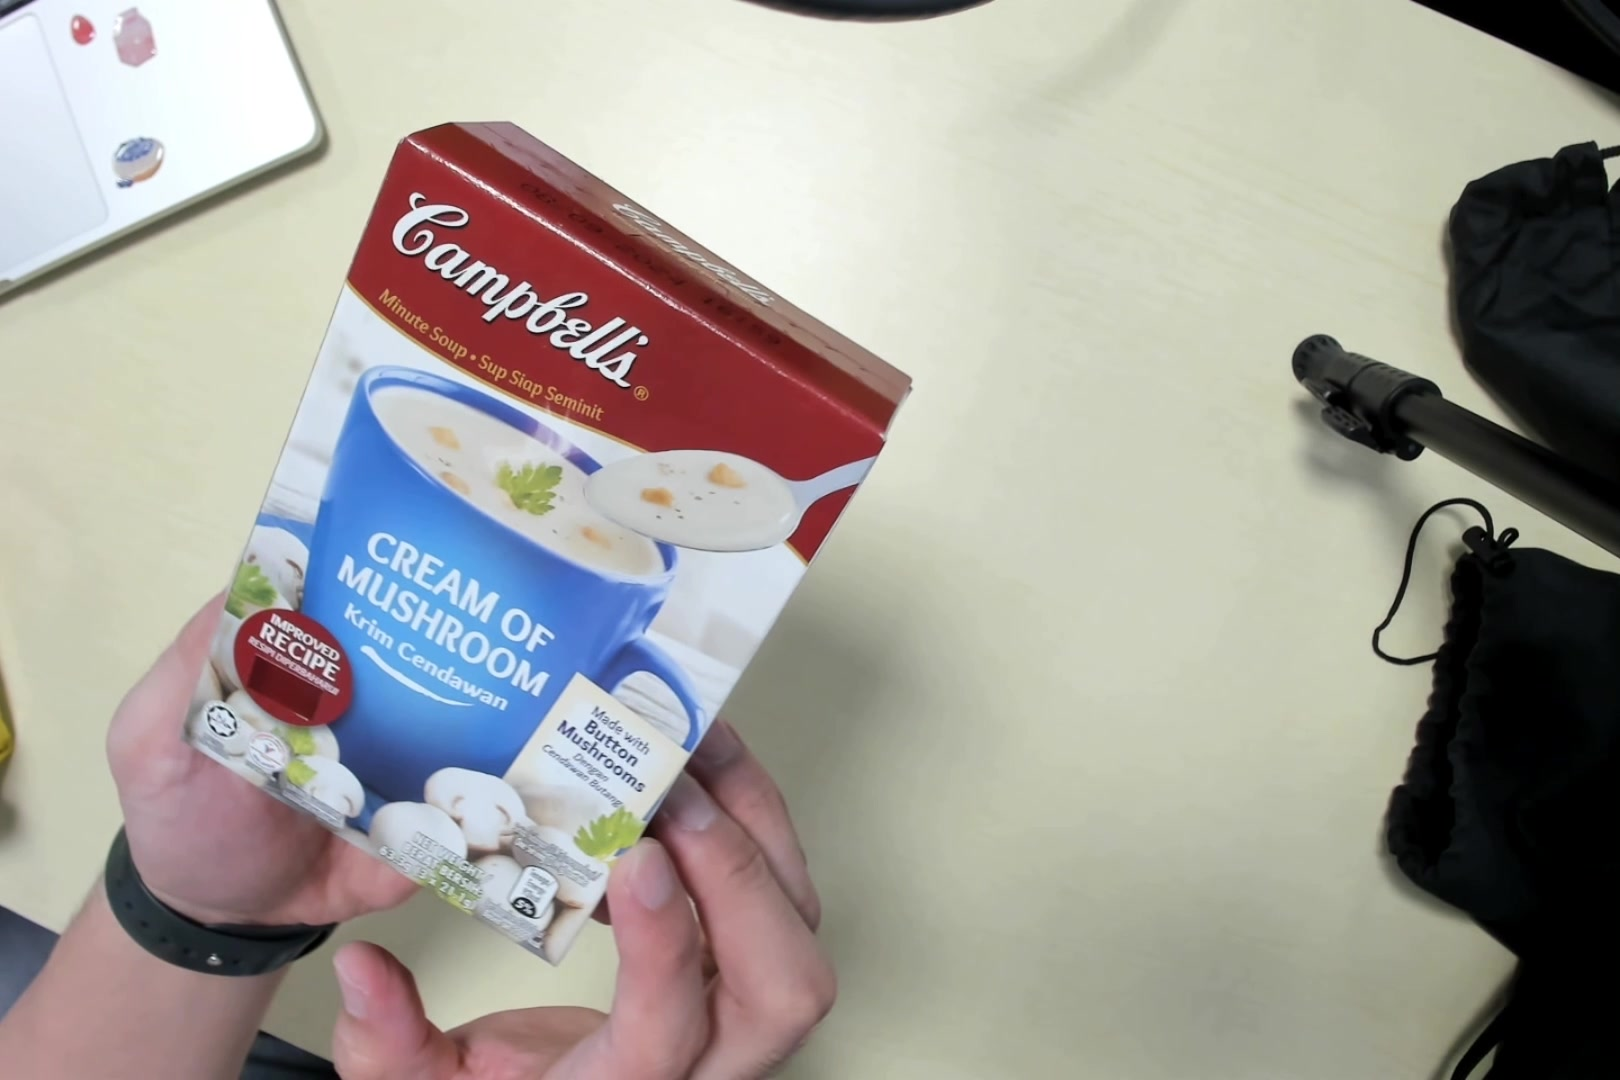InstantMeals_0-99g_Halal_NonHealthy: (175, 121, 906, 976)
